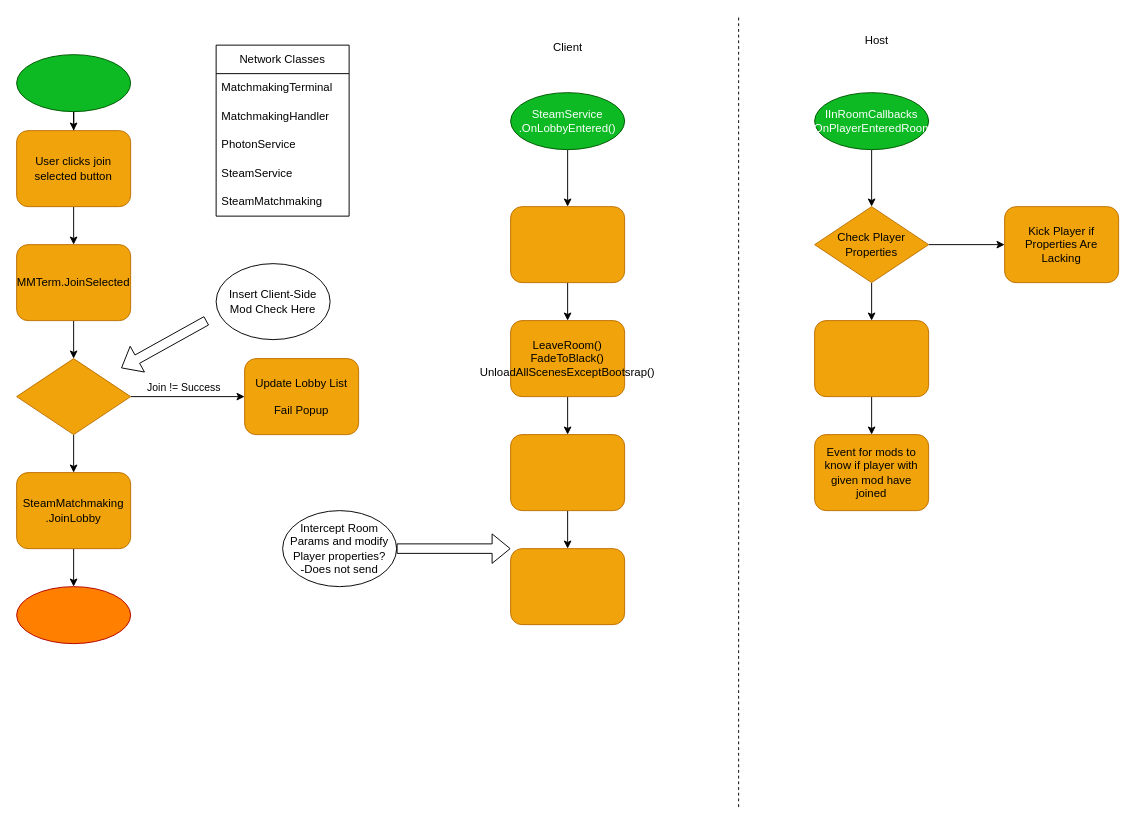
Image size: 1135x825. Some labels were removed from this diagram. The shapes that lost their labels are listed below. From the top down, each one's box as (x1, y1, x2, y2) in pixels, then its label:
(16, 54, 131, 112): UI.Matchmaking MatchmakingTerminal
(510, 206, 625, 283): GSJoinExternalGame .OnEnter(IState)
(814, 320, 929, 397): Allow Player to join
(16, 358, 131, 435): JoinGame
(510, 434, 625, 511): PhotonService .JoinRoom(string,string)
(510, 548, 625, 625): NetworkingClient .OnRoomJoin(RoomParams)
